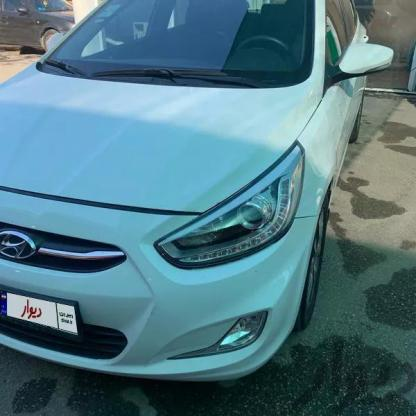Car: (0, 0, 371, 405), (0, 0, 95, 60)
